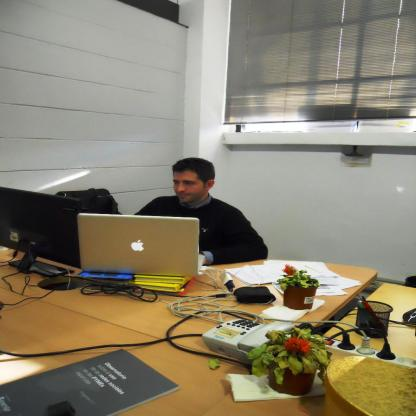board: (78, 211, 206, 276)
